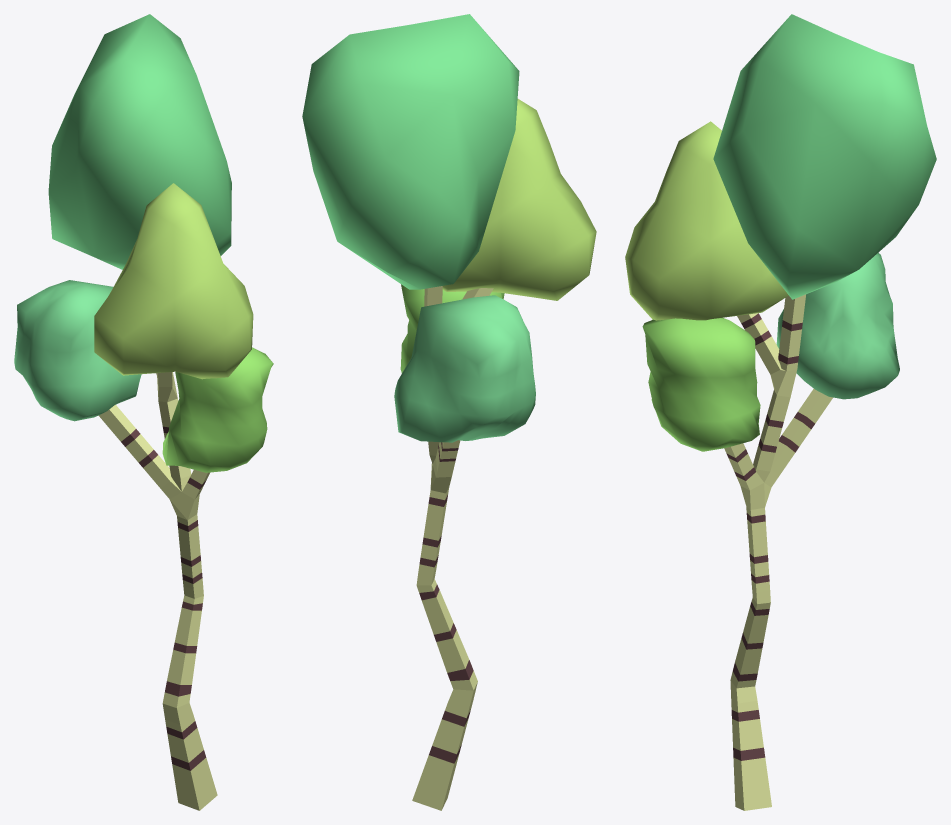
The model's file is bereza 3 spring.fbx.
The picture shows the model from 3 angles, left to right: view 1: azimuth 30°, elevation 25°; view 2: azimuth 150°, elevation 25°; view 3: azimuth 270°, elevation 25°; orthographic projection. The views are drawn at different scales.
Parts seen in each view (by area): view 1: Cube; view 2: Cube; view 3: Cube.
Part boxes in pixels (x1,y1,x2,y2): Cube: (14, 14, 273, 810); Cube: (302, 14, 596, 810); Cube: (625, 14, 936, 810).
Bounding box in the file's own units: 708 × 2707 × 995.
